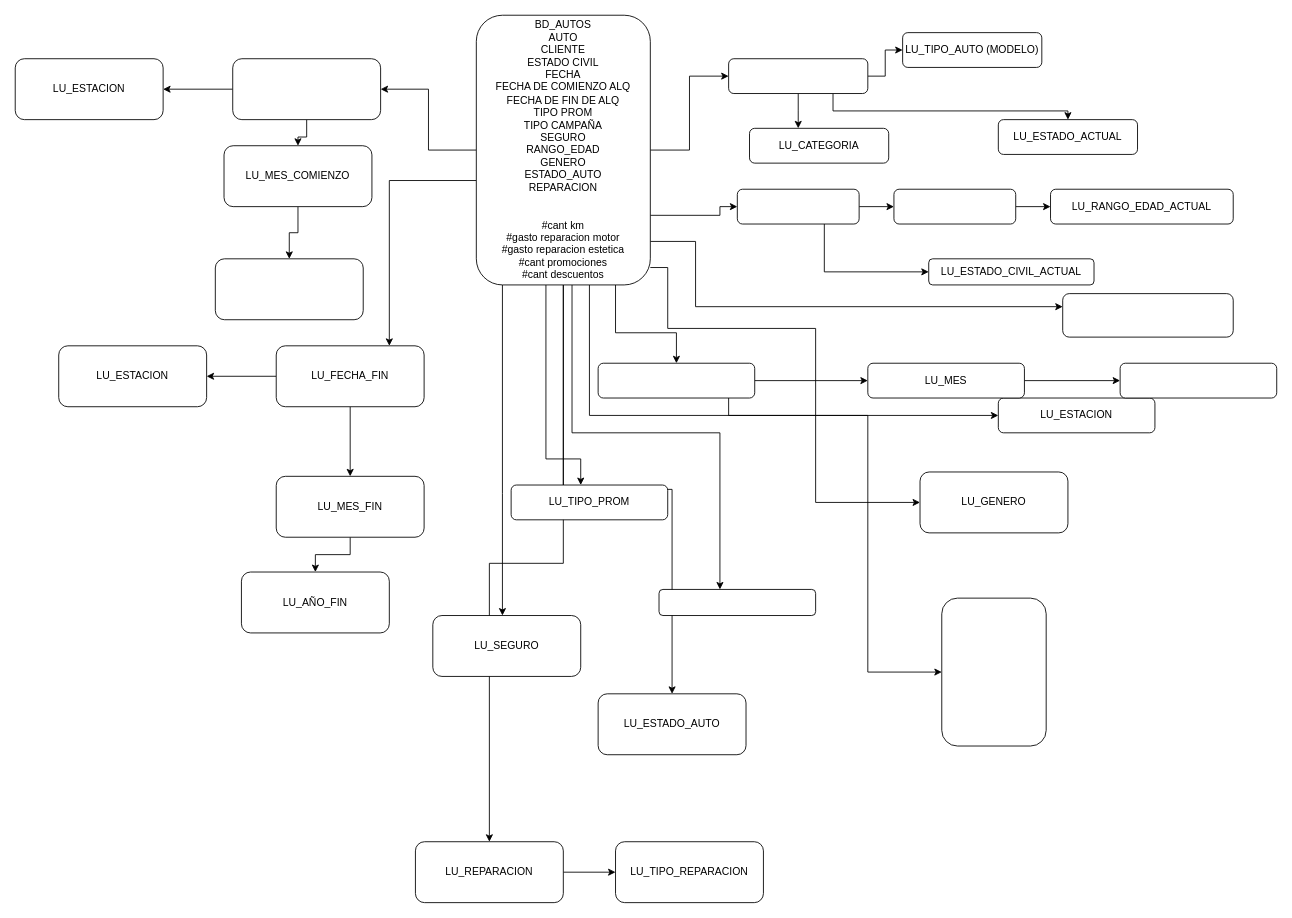
The diagram is 1292 pixels wide and 918 high, and some of its shapes have lost their labels. Here are the shapes that lost their labels. From the top down, the centre of each, then its label:
[306,89]: LU_FECHA_COMIENZO
[798,76]: LU_AUTO
[797,206]: LU_CLIENTE
[954,206]: LU_EDAD_ACTUAL
[288,289]: LU_AÑO_COMIENZO
[1147,315]: LU_ESTADO_CIVIL
[676,380]: LU_FECHA
[1198,380]: LU_AÑO
[737,602]: LU_TIPO_CAMPAÑA
[993,671]: LU_RANGO_EDAD
